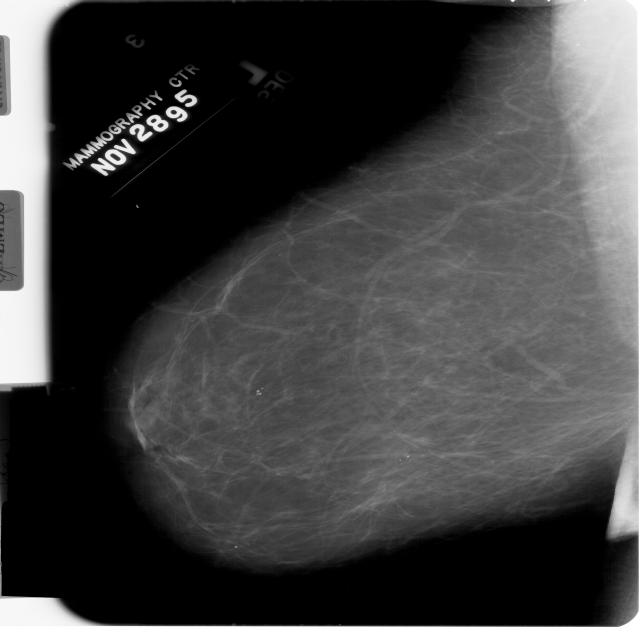normal: (96, 0, 640, 579)
